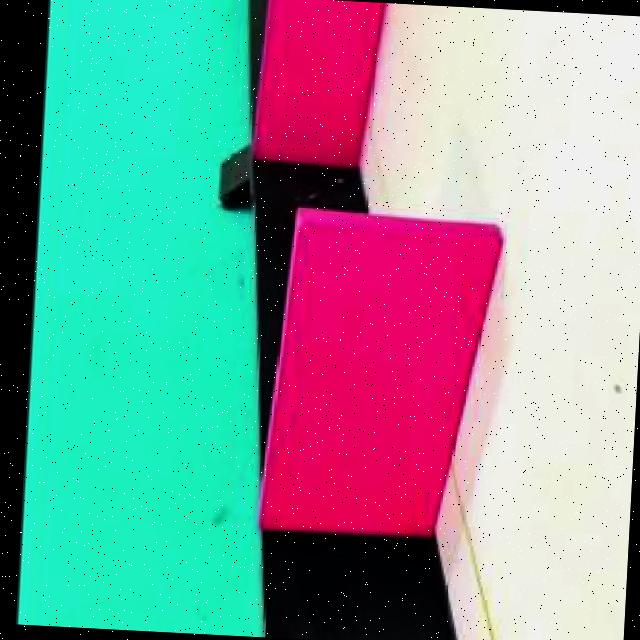xparking: (291, 222, 496, 533), (269, 0, 379, 153)
